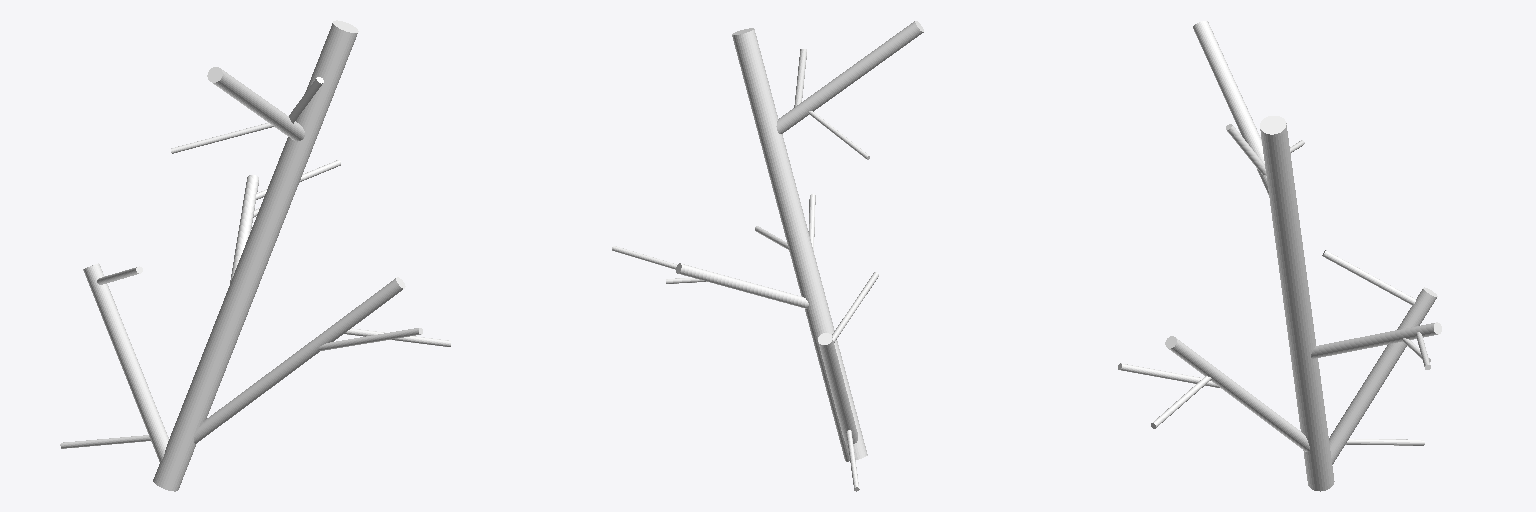
The robot description file, URDF, robot "tree_57.urdf":
<?xml version='1.0' encoding='UTF-8'?>
<robot name="tree_57.urdf">
  <link name="branch_0">
    <inertial>
      <origin xyz="0.0 0.0 0.0" rpy="0.0 -0.0 0.0"/>
      <mass value="1.0"/>
      <inertia ixx="1.0" ixy="0.0" ixz="0.0" iyy="1.0" iyz="0.0" izz="1.0"/>
    </inertial>
    <visual name="branch_0_visual">
      <geometry>
        <cylinder radius="0.22291858125500053" length="8.470570191782745"/>
      </geometry>
      <material name="branch_material"/>
      <origin xyz="1.4693991070928634 -0.39795970258623503 3.9522315446683742" rpy="1.339521265441385e-17 0.3676689118965422 -0.2644867621983683"/>
    </visual>
    <collision name="branch_0_collision">
      <geometry>
        <cylinder radius="0.22291858125500053" length="8.470570191782745"/>
      </geometry>
      <origin xyz="1.4693991070928634 -0.39795970258623503 3.9522315446683742" rpy="1.339521265441385e-17 0.3676689118965422 -0.2644867621983683"/>
    </collision>
  </link>
  <link name="branch_1">
    <inertial>
      <origin xyz="0.0 0.0 0.0" rpy="0.0 -0.0 0.0"/>
      <mass value="1.0"/>
      <inertia ixx="1.0" ixy="0.0" ixz="0.0" iyy="1.0" iyz="0.0" izz="1.0"/>
    </inertial>
    <visual name="branch_1_visual">
      <geometry>
        <cylinder radius="0.11186807447859295" length="4.926450110173493"/>
      </geometry>
      <material name="branch_material"/>
      <origin xyz="0.0 0.0 0.0" rpy="0.0 -0.0 0.0"/>
    </visual>
    <collision name="branch_1_collision">
      <geometry>
        <cylinder radius="0.11186807447859295" length="4.926450110173493"/>
      </geometry>
      <origin xyz="0.0 0.0 0.0" rpy="0.0 -0.0 0.0"/>
    </collision>
  </link>
  <link name="branch_2">
    <inertial>
      <origin xyz="0.0 0.0 0.0" rpy="0.0 -0.0 0.0"/>
      <mass value="1.0"/>
      <inertia ixx="1.0" ixy="0.0" ixz="0.0" iyy="1.0" iyz="0.0" izz="1.0"/>
    </inertial>
    <visual name="branch_2_visual">
      <geometry>
        <cylinder radius="0.058566683811344035" length="2.2385140144875315"/>
      </geometry>
      <material name="branch_material"/>
      <origin xyz="0.0 0.0 0.0" rpy="0.0 -0.0 0.0"/>
    </visual>
    <collision name="branch_2_collision">
      <geometry>
        <cylinder radius="0.058566683811344035" length="2.2385140144875315"/>
      </geometry>
      <origin xyz="0.0 0.0 0.0" rpy="0.0 -0.0 0.0"/>
    </collision>
  </link>
  <link name="branch_3">
    <inertial>
      <origin xyz="0.0 0.0 0.0" rpy="0.0 -0.0 0.0"/>
      <mass value="1.0"/>
      <inertia ixx="1.0" ixy="0.0" ixz="0.0" iyy="1.0" iyz="0.0" izz="1.0"/>
    </inertial>
    <visual name="branch_3_visual">
      <geometry>
        <cylinder radius="0.05538009942662639" length="1.8690174635790784"/>
      </geometry>
      <material name="branch_material"/>
      <origin xyz="0.0 0.0 0.0" rpy="0.0 -0.0 0.0"/>
    </visual>
    <collision name="branch_3_collision">
      <geometry>
        <cylinder radius="0.05538009942662639" length="1.8690174635790784"/>
      </geometry>
      <origin xyz="0.0 0.0 0.0" rpy="0.0 -0.0 0.0"/>
    </collision>
  </link>
  <link name="branch_4">
    <inertial>
      <origin xyz="0.0 0.0 0.0" rpy="0.0 -0.0 0.0"/>
      <mass value="1.0"/>
      <inertia ixx="1.0" ixy="0.0" ixz="0.0" iyy="1.0" iyz="0.0" izz="1.0"/>
    </inertial>
    <visual name="branch_4_visual">
      <geometry>
        <cylinder radius="0.10207740643510874" length="3.087289669721536"/>
      </geometry>
      <material name="branch_material"/>
      <origin xyz="0.0 0.0 0.0" rpy="0.0 -0.0 0.0"/>
    </visual>
    <collision name="branch_4_collision">
      <geometry>
        <cylinder radius="0.10207740643510874" length="3.087289669721536"/>
      </geometry>
      <origin xyz="0.0 0.0 0.0" rpy="0.0 -0.0 0.0"/>
    </collision>
  </link>
  <link name="branch_5">
    <inertial>
      <origin xyz="0.0 0.0 0.0" rpy="0.0 -0.0 0.0"/>
      <mass value="1.0"/>
      <inertia ixx="1.0" ixy="0.0" ixz="0.0" iyy="1.0" iyz="0.0" izz="1.0"/>
    </inertial>
    <visual name="branch_5_visual">
      <geometry>
        <cylinder radius="0.049773956458256" length="0.9617368301915238"/>
      </geometry>
      <material name="branch_material"/>
      <origin xyz="0.0 0.0 0.0" rpy="0.0 -0.0 0.0"/>
    </visual>
    <collision name="branch_5_collision">
      <geometry>
        <cylinder radius="0.049773956458256" length="0.9617368301915238"/>
      </geometry>
      <origin xyz="0.0 0.0 0.0" rpy="0.0 -0.0 0.0"/>
    </collision>
  </link>
  <link name="branch_6">
    <inertial>
      <origin xyz="0.0 0.0 0.0" rpy="0.0 -0.0 0.0"/>
      <mass value="1.0"/>
      <inertia ixx="1.0" ixy="0.0" ixz="0.0" iyy="1.0" iyz="0.0" izz="1.0"/>
    </inertial>
    <visual name="branch_6_visual">
      <geometry>
        <cylinder radius="0.05148062284590314" length="1.7994363872621988"/>
      </geometry>
      <material name="branch_material"/>
      <origin xyz="0.0 0.0 0.0" rpy="0.0 -0.0 0.0"/>
    </visual>
    <collision name="branch_6_collision">
      <geometry>
        <cylinder radius="0.05148062284590314" length="1.7994363872621988"/>
      </geometry>
      <origin xyz="0.0 0.0 0.0" rpy="0.0 -0.0 0.0"/>
    </collision>
  </link>
  <link name="branch_7">
    <inertial>
      <origin xyz="0.0 0.0 0.0" rpy="0.0 -0.0 0.0"/>
      <mass value="1.0"/>
      <inertia ixx="1.0" ixy="0.0" ixz="0.0" iyy="1.0" iyz="0.0" izz="1.0"/>
    </inertial>
    <visual name="branch_7_visual">
      <geometry>
        <cylinder radius="0.14278975652800216" length="3.5797582184170387"/>
      </geometry>
      <material name="branch_material"/>
      <origin xyz="0.0 0.0 0.0" rpy="0.0 -0.0 0.0"/>
    </visual>
    <collision name="branch_7_collision">
      <geometry>
        <cylinder radius="0.14278975652800216" length="3.5797582184170387"/>
      </geometry>
      <origin xyz="0.0 0.0 0.0" rpy="0.0 -0.0 0.0"/>
    </collision>
  </link>
  <link name="branch_8">
    <inertial>
      <origin xyz="0.0 0.0 0.0" rpy="0.0 -0.0 0.0"/>
      <mass value="1.0"/>
      <inertia ixx="1.0" ixy="0.0" ixz="0.0" iyy="1.0" iyz="0.0" izz="1.0"/>
    </inertial>
    <visual name="branch_8_visual">
      <geometry>
        <cylinder radius="0.05919257538202575" length="1.866781855535579"/>
      </geometry>
      <material name="branch_material"/>
      <origin xyz="0.0 0.0 0.0" rpy="0.0 -0.0 0.0"/>
    </visual>
    <collision name="branch_8_collision">
      <geometry>
        <cylinder radius="0.05919257538202575" length="1.866781855535579"/>
      </geometry>
      <origin xyz="0.0 0.0 0.0" rpy="0.0 -0.0 0.0"/>
    </collision>
  </link>
  <link name="branch_9">
    <inertial>
      <origin xyz="0.0 0.0 0.0" rpy="0.0 -0.0 0.0"/>
      <mass value="1.0"/>
      <inertia ixx="1.0" ixy="0.0" ixz="0.0" iyy="1.0" iyz="0.0" izz="1.0"/>
    </inertial>
    <visual name="branch_9_visual">
      <geometry>
        <cylinder radius="0.05165567322119909" length="1.8156420542583065"/>
      </geometry>
      <material name="branch_material"/>
      <origin xyz="0.0 0.0 0.0" rpy="0.0 -0.0 0.0"/>
    </visual>
    <collision name="branch_9_collision">
      <geometry>
        <cylinder radius="0.05165567322119909" length="1.8156420542583065"/>
      </geometry>
      <origin xyz="0.0 0.0 0.0" rpy="0.0 -0.0 0.0"/>
    </collision>
  </link>
  <link name="branch_10">
    <inertial>
      <origin xyz="0.0 0.0 0.0" rpy="0.0 -0.0 0.0"/>
      <mass value="1.0"/>
      <inertia ixx="1.0" ixy="0.0" ixz="0.0" iyy="1.0" iyz="0.0" izz="1.0"/>
    </inertial>
    <visual name="branch_10_visual">
      <geometry>
        <cylinder radius="0.13718485323055102" length="3.6168506959731843"/>
      </geometry>
      <material name="branch_material"/>
      <origin xyz="0.0 0.0 0.0" rpy="0.0 -0.0 0.0"/>
    </visual>
    <collision name="branch_10_collision">
      <geometry>
        <cylinder radius="0.13718485323055102" length="3.6168506959731843"/>
      </geometry>
      <origin xyz="0.0 0.0 0.0" rpy="0.0 -0.0 0.0"/>
    </collision>
  </link>
  <link name="branch_11">
    <inertial>
      <origin xyz="0.0 0.0 0.0" rpy="0.0 -0.0 0.0"/>
      <mass value="1.0"/>
      <inertia ixx="1.0" ixy="0.0" ixz="0.0" iyy="1.0" iyz="0.0" izz="1.0"/>
    </inertial>
    <visual name="branch_11_visual">
      <geometry>
        <cylinder radius="0.0455500746016306" length="1.8791312263921913"/>
      </geometry>
      <material name="branch_material"/>
      <origin xyz="0.0 0.0 0.0" rpy="0.0 -0.0 0.0"/>
    </visual>
    <collision name="branch_11_collision">
      <geometry>
        <cylinder radius="0.0455500746016306" length="1.8791312263921913"/>
      </geometry>
      <origin xyz="0.0 0.0 0.0" rpy="0.0 -0.0 0.0"/>
    </collision>
  </link>
  <link name="branch_12">
    <inertial>
      <origin xyz="0.0 0.0 0.0" rpy="0.0 -0.0 0.0"/>
      <mass value="1.0"/>
      <inertia ixx="1.0" ixy="0.0" ixz="0.0" iyy="1.0" iyz="0.0" izz="1.0"/>
    </inertial>
    <visual name="branch_12_visual">
      <geometry>
        <cylinder radius="0.06890753863966334" length="1.2540305624776467"/>
      </geometry>
      <material name="branch_material"/>
      <origin xyz="0.0 0.0 0.0" rpy="0.0 -0.0 0.0"/>
    </visual>
    <collision name="branch_12_collision">
      <geometry>
        <cylinder radius="0.06890753863966334" length="1.2540305624776467"/>
      </geometry>
      <origin xyz="0.0 0.0 0.0" rpy="0.0 -0.0 0.0"/>
    </collision>
  </link>
  <joint name="joint_0_1" type="fixed">
    <parent link="branch_0"/>
    <child link="branch_1"/>
    <axis xyz="1. 0. 0."/>
    <origin xyz="1.6234547384155098 -1.2781803284772766 2.3089585314234955" rpy="-0.33697208284455016 0.7847904260793608 -1.1818784605755877"/>
  </joint>
  <joint name="joint_0_4" type="fixed">
    <parent link="branch_0"/>
    <child link="branch_4"/>
    <axis xyz="1. 0. 0."/>
    <origin xyz="1.909063887597645 0.8260304003691932 3.460446122793057" rpy="0.7031218539736307 0.99576671040251 1.701695884279214"/>
  </joint>
  <joint name="joint_0_7" type="fixed">
    <parent link="branch_0"/>
    <child link="branch_7"/>
    <axis xyz="1. 0. 0."/>
    <origin xyz="-0.13159797904798465 0.8940136589550098 1.7856819442434062" rpy="0.2674619237352887 0.49728581954834944 2.33837592147329"/>
  </joint>
  <joint name="joint_0_10" type="fixed">
    <parent link="branch_0"/>
    <child link="branch_10"/>
    <axis xyz="1. 0. 0."/>
    <origin xyz="1.0050477538008107 -1.3036176865445452 7.138580978590618" rpy="-0.3309491934941233 0.8514951834868072 -3.053715070916225"/>
  </joint>
  <joint name="joint_1_2" type="fixed">
    <parent link="branch_0"/>
    <child link="branch_2"/>
    <axis xyz="1. 0. 0."/>
    <origin xyz="2.3875642073629844 -2.425436101660626 3.041059395013817" rpy="-0.96640085773032 0.862093361334142 -2.159437208077638"/>
  </joint>
  <joint name="joint_1_3" type="fixed">
    <parent link="branch_0"/>
    <child link="branch_3"/>
    <axis xyz="1. 0. 0."/>
    <origin xyz="2.994778011705104 -2.2876093215203 2.8975121553010457" rpy="2.2260251447501713 1.3737369679481628 1.6552890104966145"/>
  </joint>
  <joint name="joint_4_5" type="fixed">
    <parent link="branch_0"/>
    <child link="branch_5"/>
    <axis xyz="1. 0. 0."/>
    <origin xyz="2.7161900306691322 1.5532451392518993 3.712231446367303" rpy="-1.6915669537927878 0.9125139799670363 -1.1677641143078161"/>
  </joint>
  <joint name="joint_4_6" type="fixed">
    <parent link="branch_0"/>
    <child link="branch_6"/>
    <axis xyz="1. 0. 0."/>
    <origin xyz="3.410689339228378 1.6918686868355979 4.0073130511048705" rpy="-1.4543078746962281 0.4789954418259443 -1.42870835396362"/>
  </joint>
  <joint name="joint_7_8" type="fixed">
    <parent link="branch_0"/>
    <child link="branch_8"/>
    <axis xyz="1. 0. 0."/>
    <origin xyz="-0.3976141187656988 0.8561871719599782 3.515691587763528" rpy="0.3014499120101644 1.033587487487766 -1.3117061986136966"/>
  </joint>
  <joint name="joint_7_9" type="fixed">
    <parent link="branch_0"/>
    <child link="branch_9"/>
    <axis xyz="1. 0. 0."/>
    <origin xyz="-0.47888237595374744 0.9789067222400212 0.5042476105428035" rpy="2.5312596851212255 1.2318439041666136 -1.5924071559867492"/>
  </joint>
  <joint name="joint_10_11" type="fixed">
    <parent link="branch_0"/>
    <child link="branch_11"/>
    <axis xyz="1. 0. 0."/>
    <origin xyz="0.7866493349479767 -0.625119054915396 6.3565124220850615" rpy="-1.8803944452402876 0.8527856281051414 0.9902446187227769"/>
  </joint>
  <joint name="joint_10_12" type="fixed">
    <parent link="branch_0"/>
    <child link="branch_12"/>
    <axis xyz="1. 0. 0."/>
    <origin xyz="1.9123086154050817 -1.192514397999832 6.933412810998476" rpy="0.5826945597043203 0.17256878688352228 0.08922101718339823"/>
  </joint>
  <material name="branch_material">
    <color rgba="1. 1. 1. 1."/>
  </material>
</robot>

--- What the picture shows (computed from the rendered views, not written in the file) ---
3 views of the same robot in one strip: view 1: azimuth 30°, elevation 25°; view 2: azimuth 150°, elevation 25°; view 3: azimuth 270°, elevation 25° (orthographic).
Robot: tree_57.urdf — 13 links, 12 joints (12 fixed); root link branch_0; default pose: all joints at 0.
Links seen in each view (by area): view 1: branch_0, branch_1, branch_7, branch_10, branch_4, branch_2, branch_11, branch_9, branch_3; view 2: branch_0, branch_10, branch_7, branch_4; view 3: branch_0, branch_7, branch_10, branch_1, branch_4, branch_8, branch_2.
Link boxes in pixels (x1,y1,x2,y2): branch_0: [153, 20, 358, 491]; branch_1: [194, 277, 405, 443]; branch_7: [83, 263, 168, 461]; branch_10: [207, 67, 304, 141]; branch_4: [230, 175, 258, 282]; branch_2: [318, 328, 422, 350]; branch_11: [171, 123, 273, 153]; branch_9: [60, 435, 150, 448]; branch_3: [344, 328, 451, 346]; branch_0: [732, 28, 867, 461]; branch_10: [776, 21, 923, 133]; branch_7: [818, 333, 857, 443]; branch_4: [676, 263, 808, 308]; branch_0: [1260, 116, 1334, 491]; branch_7: [1329, 287, 1437, 464]; branch_10: [1193, 20, 1268, 194]; branch_1: [1165, 336, 1309, 451]; branch_4: [1311, 322, 1441, 358]; branch_8: [1322, 250, 1415, 305]; branch_2: [1118, 363, 1219, 387].
Bounding box of the posed robot: 5.34 × 5.38 × 8.45 m (x, y, z).
Geometry: primitives only (box / cylinder / sphere), no mesh files.